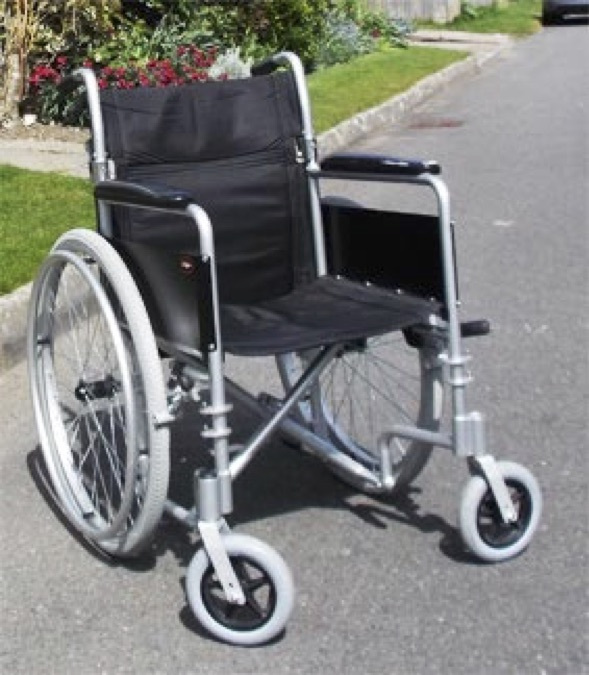wheelchair: (35, 62, 544, 638)
